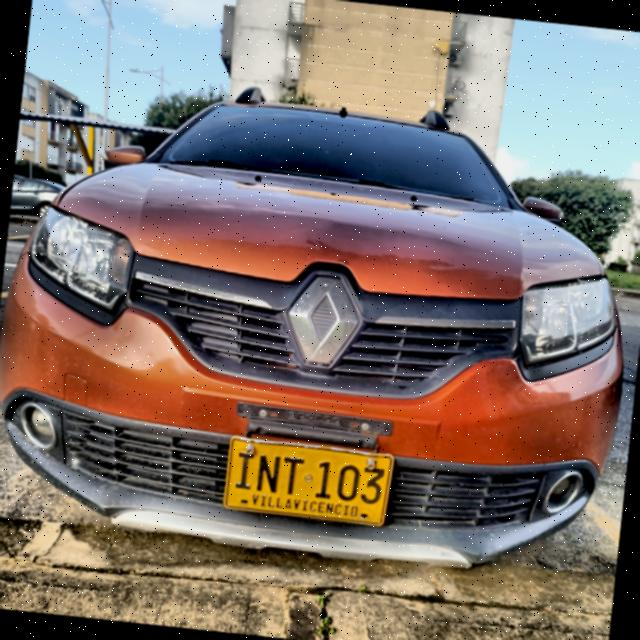plate: (224, 436, 389, 525)
